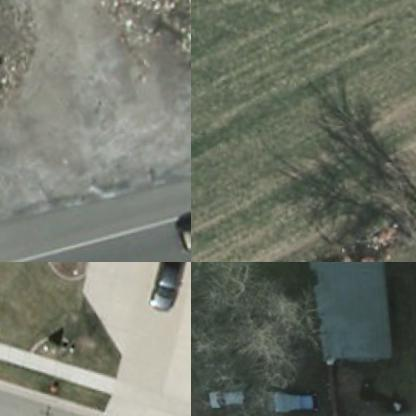car: (144, 262, 189, 317), (164, 201, 190, 257), (198, 382, 242, 407)
